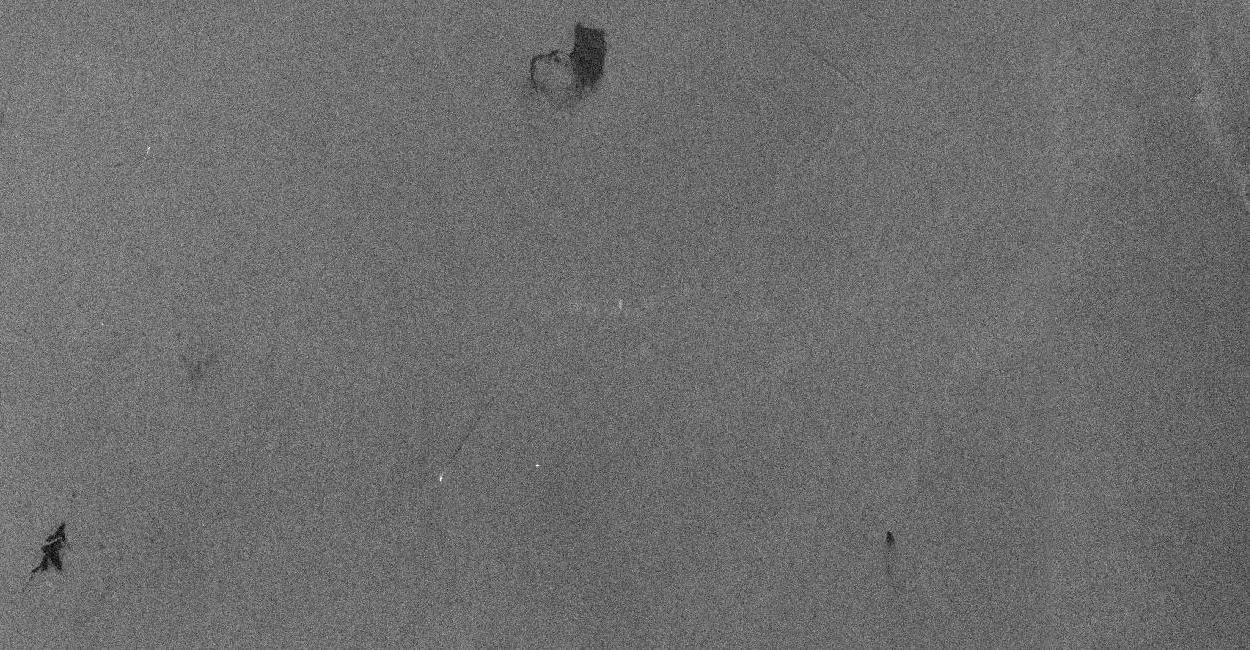Look-alike: (28, 520, 68, 574)
Oil Spill: (568, 20, 608, 102), (526, 46, 566, 94)
